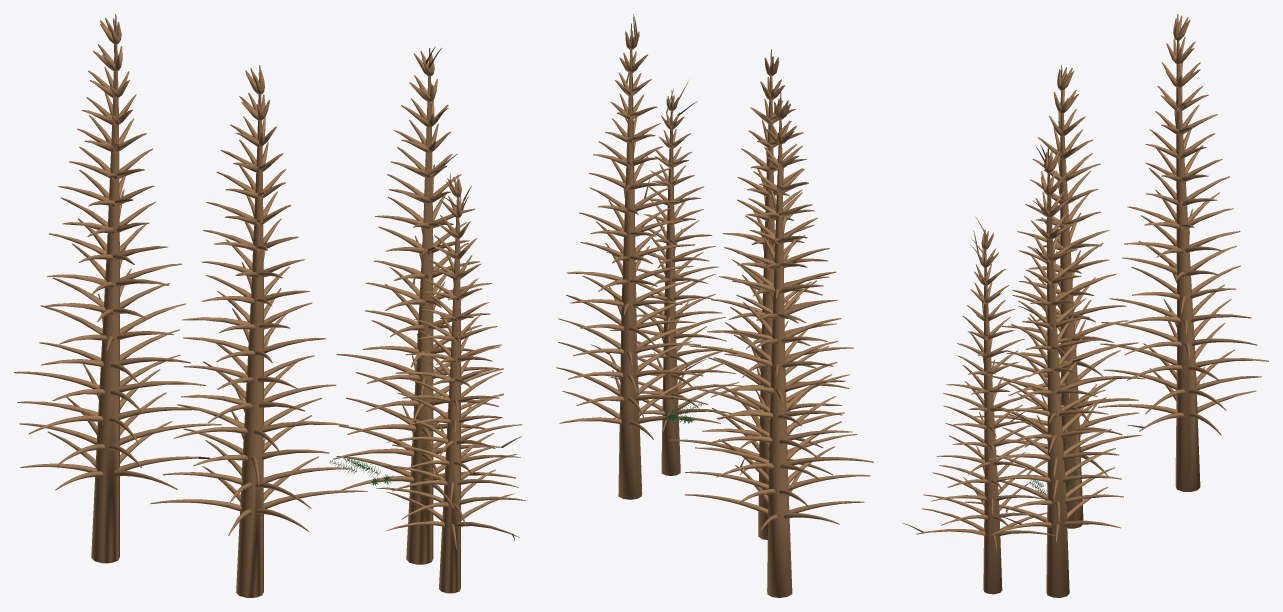
File: pine-tree.glb
3 renders of one model, left to right at view 1: azimuth 30°, elevation 25°; view 2: azimuth 150°, elevation 25°; view 3: azimuth 270°, elevation 25°, orthographic. The views are drawn at different scales.
Parts seen in each view (by area): view 1: part_00030, part_00032, part_00029, part_00031; view 2: part_00030, part_00029, part_00032, part_00031; view 3: part_00030, part_00029, part_00032, part_00031.
Part boxes in pixels (box(x1,y1,x2,y2)): part_00030: box(14, 14, 221, 563); part_00032: box(150, 65, 367, 597); part_00029: box(333, 48, 515, 564); part_00031: box(376, 172, 527, 593); part_00030: box(684, 92, 873, 597); part_00029: box(556, 23, 720, 499); part_00032: box(669, 49, 857, 539); part_00031: box(609, 80, 743, 475); part_00030: box(1098, 14, 1268, 491); part_00029: box(965, 148, 1123, 597); part_00032: box(974, 65, 1144, 528); part_00031: box(916, 216, 1054, 594).
Size of the model in its own units: 10.64 by 13.65 by 9.46.
